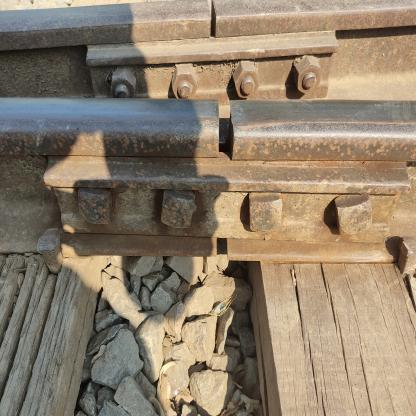Non Defective 2: (185, 0, 235, 52)
Non Defective 3: (17, 152, 416, 276), (72, 27, 366, 118)
